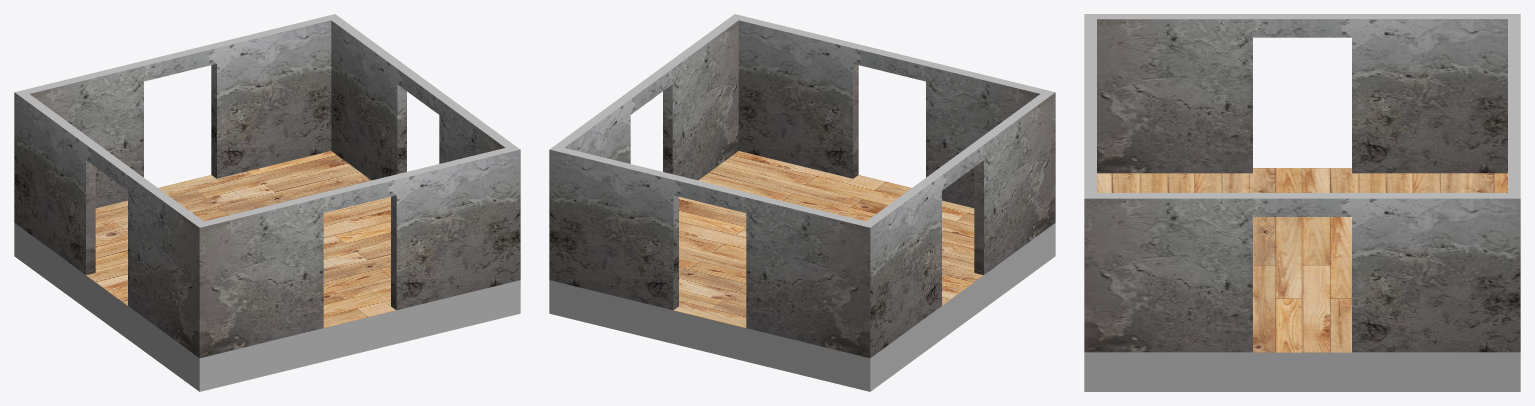
The model's file is tile_ph3.fbx.
3 renders of one model, left to right at view 1: azimuth 30°, elevation 25°; view 2: azimuth 150°, elevation 25°; view 3: azimuth 270°, elevation 25°, orthographic. The views are drawn at different scales.
Visible parts, largest first — view 1: pCube5; view 2: pCube5; view 3: pCube5.
Boxes of the visible parts, x1,y1,x2,y2 form: pCube5: (14, 14, 520, 391); pCube5: (549, 14, 1055, 391); pCube5: (1084, 14, 1520, 391).
Bounding box in the file's own units: 1 × 0.4889 × 1.
